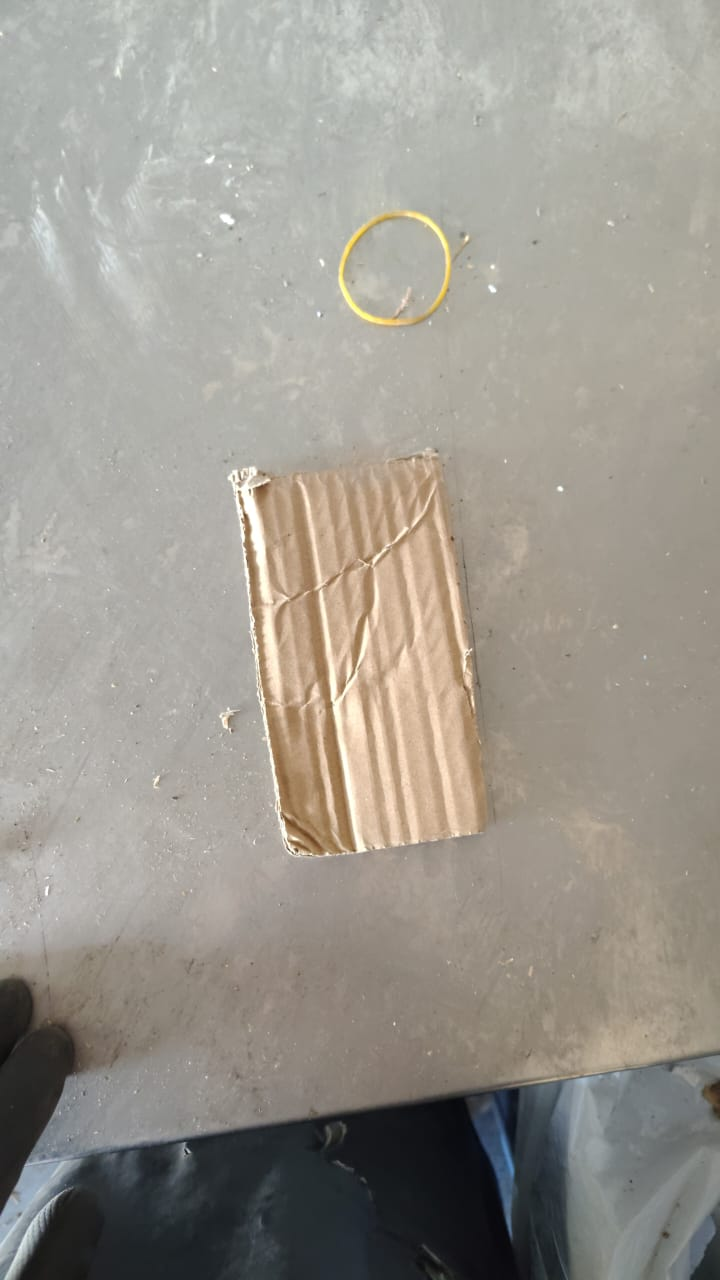Carton: (227, 461, 482, 859)
